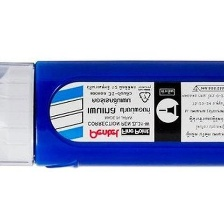correction_fluid: (0, 59, 224, 169)
